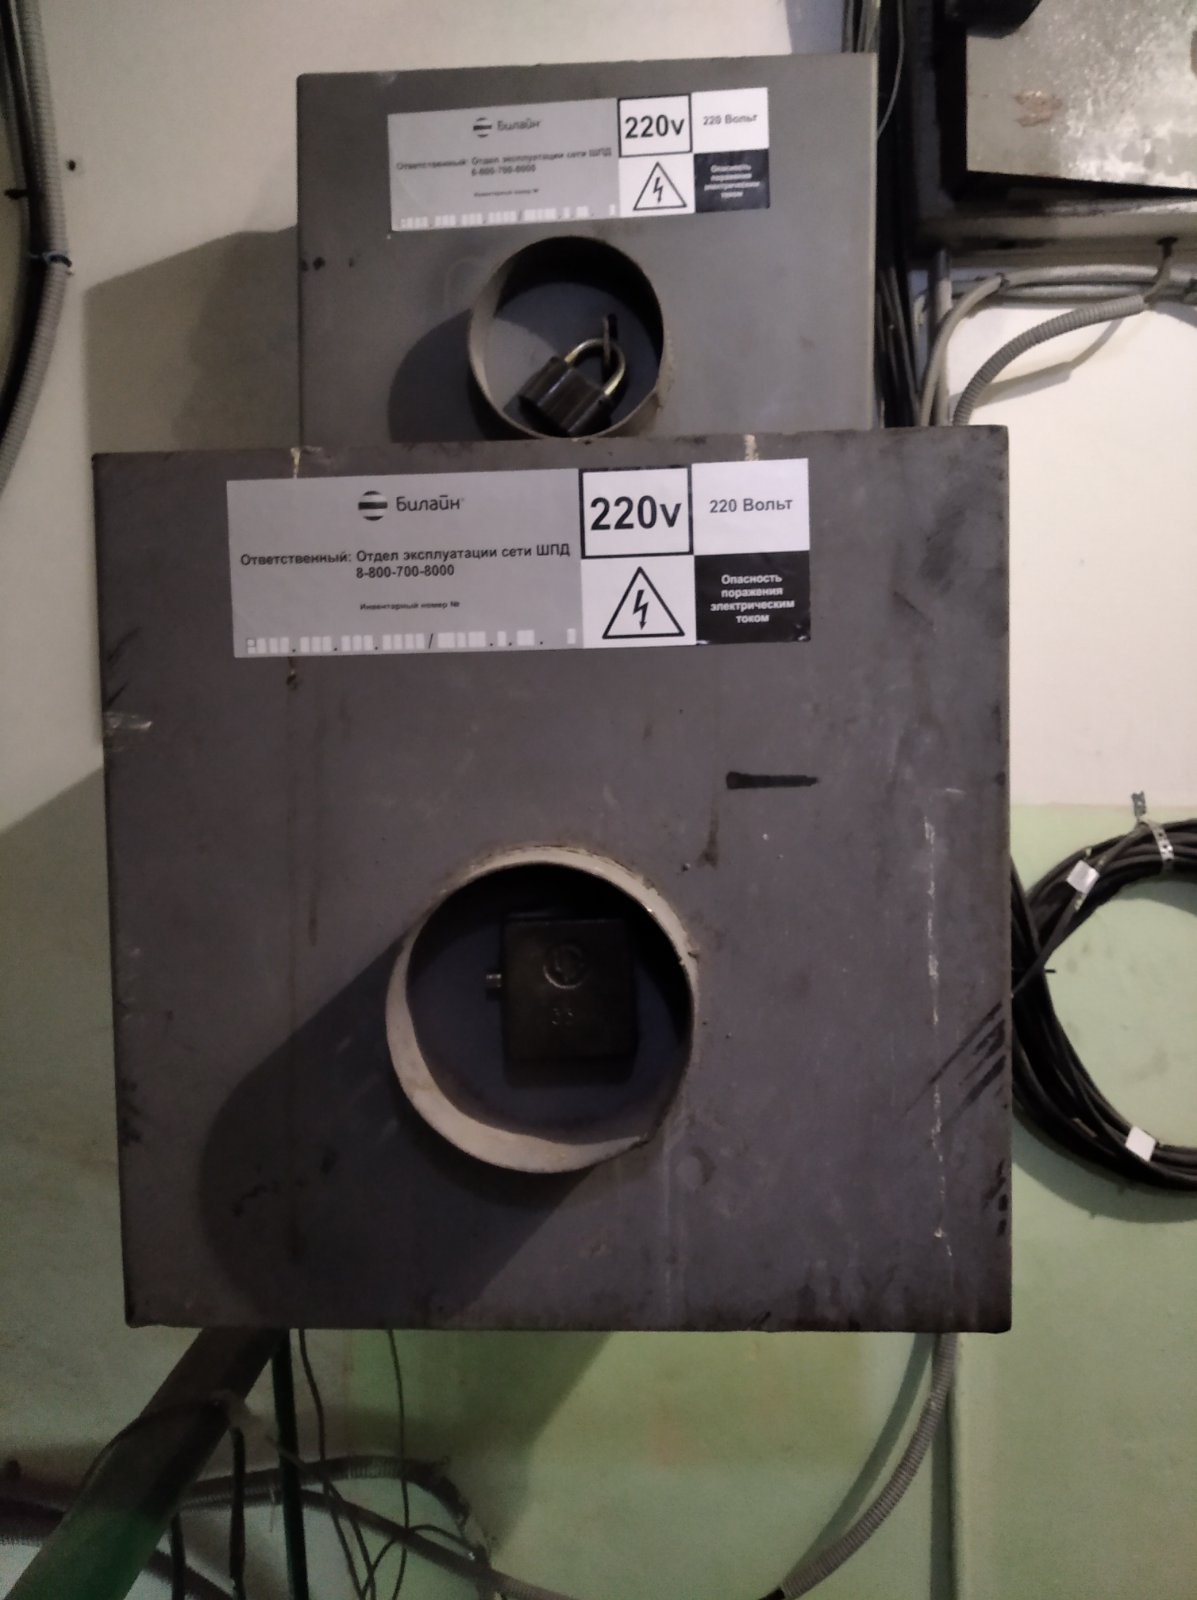shta-3: (269, 28, 891, 481)
shta-9: (69, 400, 1039, 1351)
